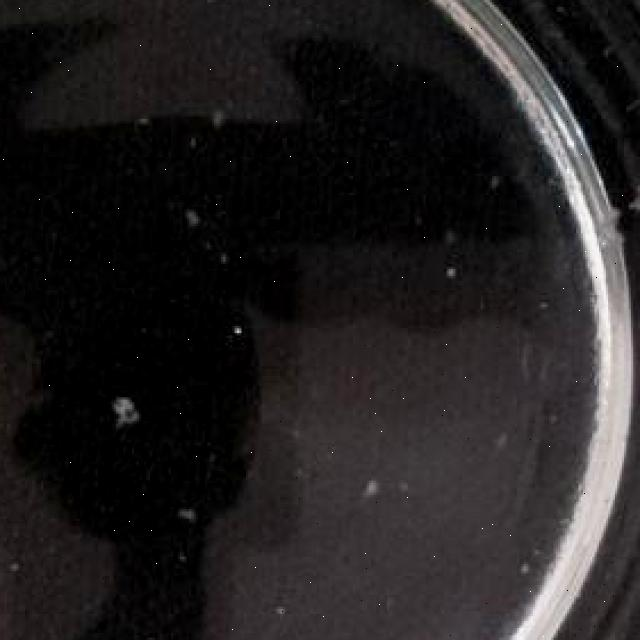Microplastic: (356, 464, 396, 507), (105, 378, 139, 428), (624, 157, 640, 224)
